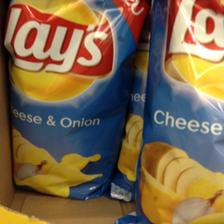Chips: (8, 0, 148, 198), (133, 0, 223, 220)
